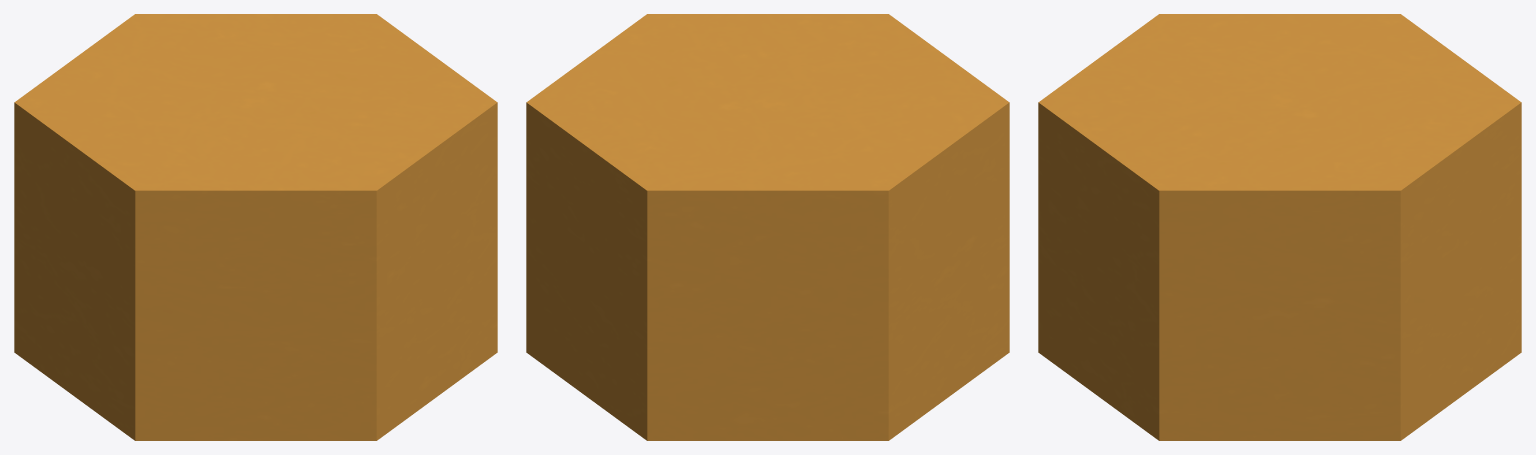
File: tier-t5.glb
3 renders of one model, left to right at view 1: azimuth 30°, elevation 25°; view 2: azimuth 150°, elevation 25°; view 3: azimuth 270°, elevation 25°, orthographic.
Parts seen in each view (by area): view 1: gem-t5-court-sealed; view 2: gem-t5-court-sealed; view 3: gem-t5-court-sealed.
Part boxes in pixels (bbox=[...]): gem-t5-court-sealed: bbox=[14, 14, 497, 440]; gem-t5-court-sealed: bbox=[526, 14, 1009, 440]; gem-t5-court-sealed: bbox=[1038, 14, 1521, 440].
Bounding box in the file's own units: 0.2425 × 0.16 × 0.28.
Materials: 1 (1 with a texture image).
